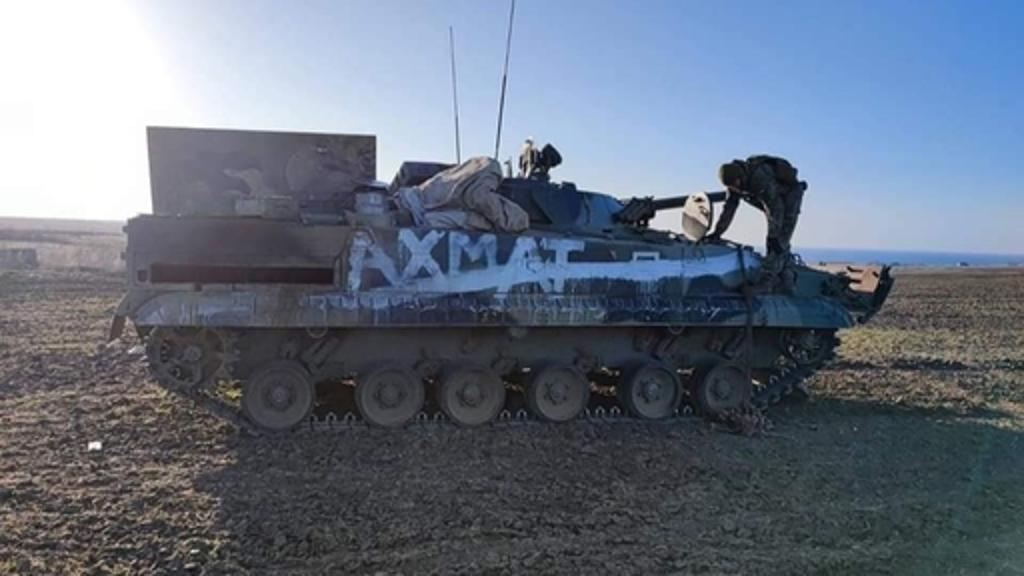APC-IFV: (126, 116, 874, 436)
